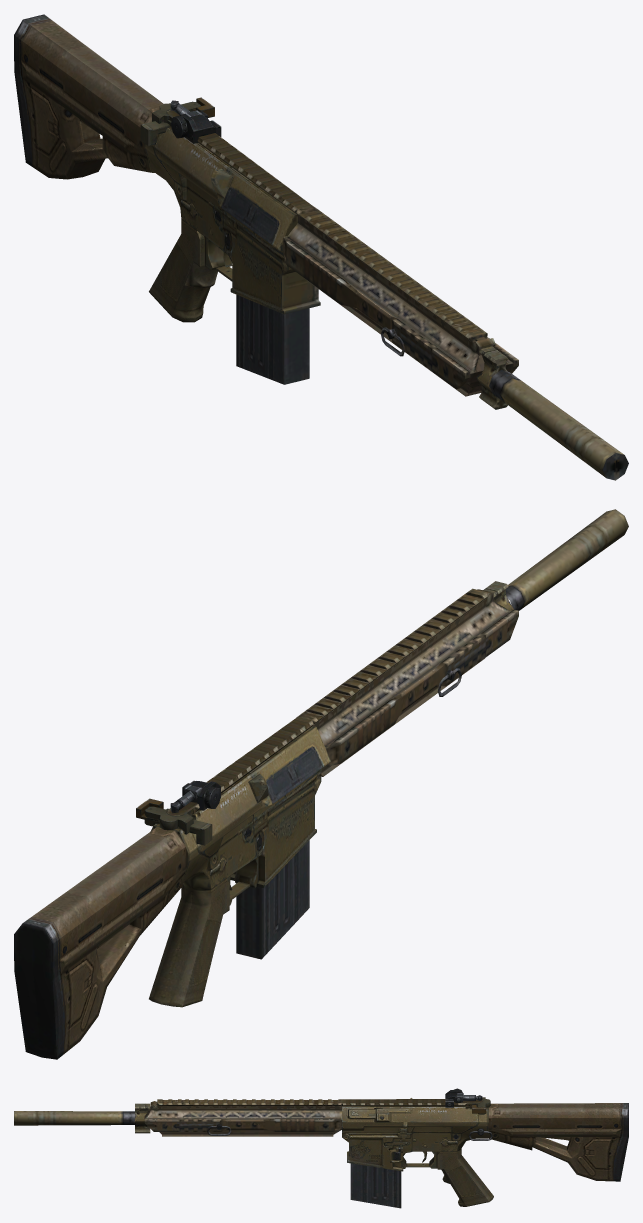
File: Sniper_Rifle_SR_M110_Body_Main_(000806).glb
The picture shows the model from 3 angles, top to bottom: view 1: azimuth 30°, elevation 25°; view 2: azimuth 150°, elevation 25°; view 3: azimuth 270°, elevation 25°; orthographic projection. The views are drawn at different scales.
Visible parts, largest first — view 1: SR_M110; view 2: SR_M110; view 3: SR_M110.
Boxes of the visible parts, x1,y1,x2,y2 form: SR_M110: (14,14,628,480); SR_M110: (14,509,628,1059); SR_M110: (14,1088,628,1208).
Bounding box in the file's own units: 0.0774 × 0.2418 × 1.2.
1 material, 1 textured.
